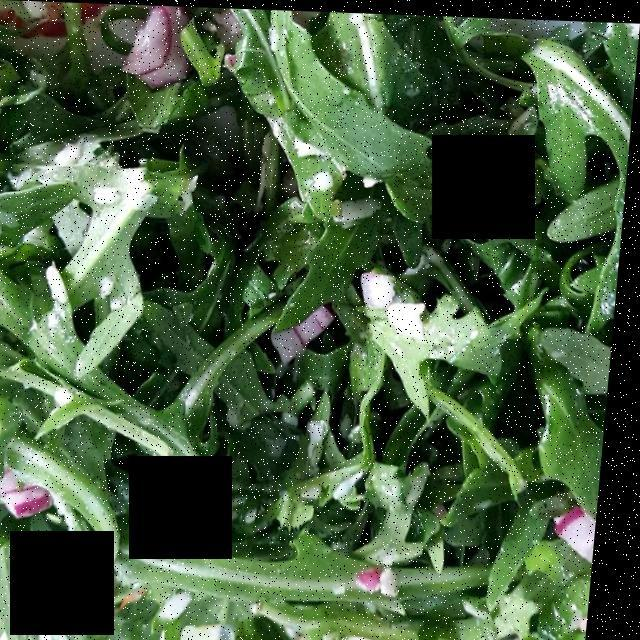onion: (3, 16, 429, 535)
salad: (0, 24, 613, 625)
